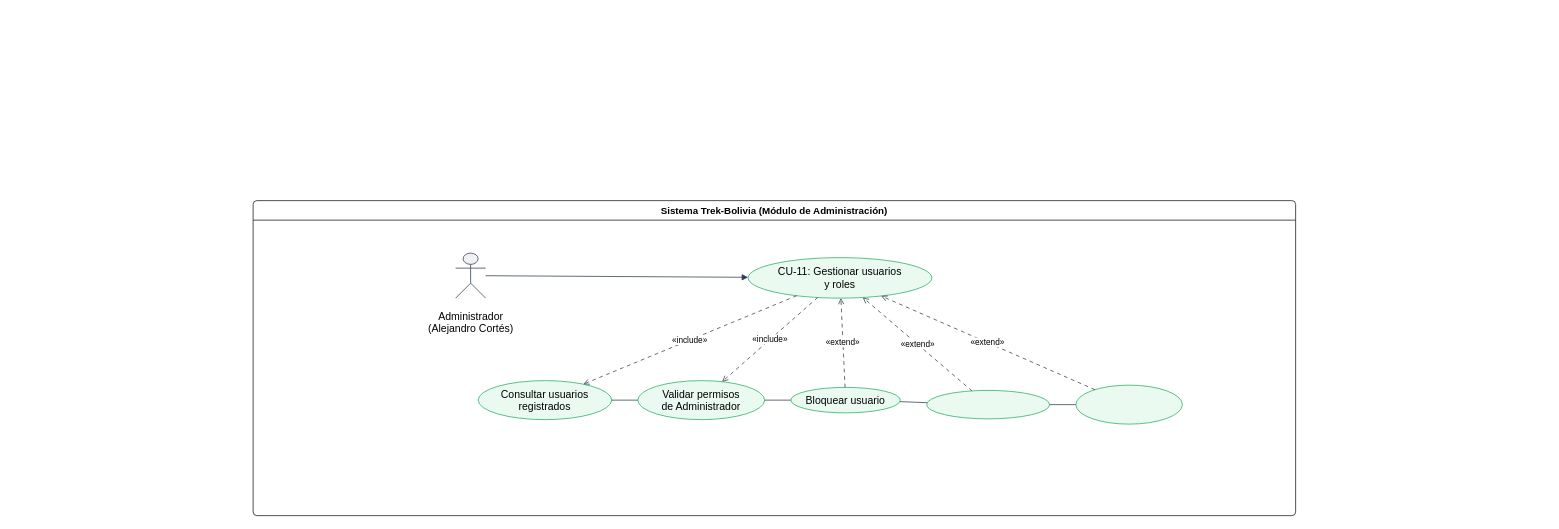
Some shapes in this 1559 by 529 pixel diagram are drawn without their labels. Here are the shapes that lost their labels. From the top down, the centre of each, then its label:
At pixel 988 404: "Desbloquear usuario".
At pixel 1128 404: "Asignar rol de Moderador".
